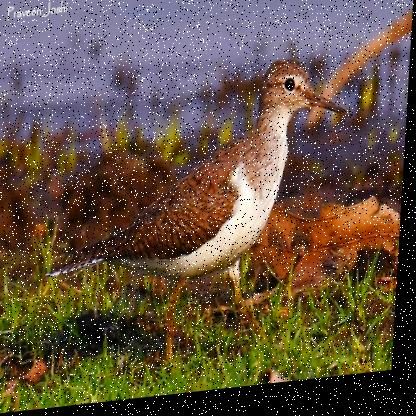Burung: (45, 54, 358, 383)
